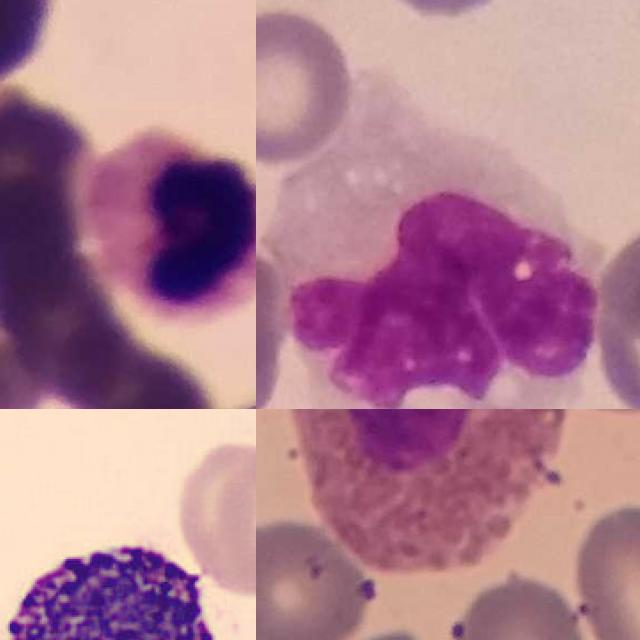Basophil: (0, 520, 227, 640)
Eosinophil: (278, 409, 570, 575)
Monocyte: (277, 143, 600, 409)
Neutrophil: (81, 131, 256, 313)
RBC: (193, 442, 256, 603)
